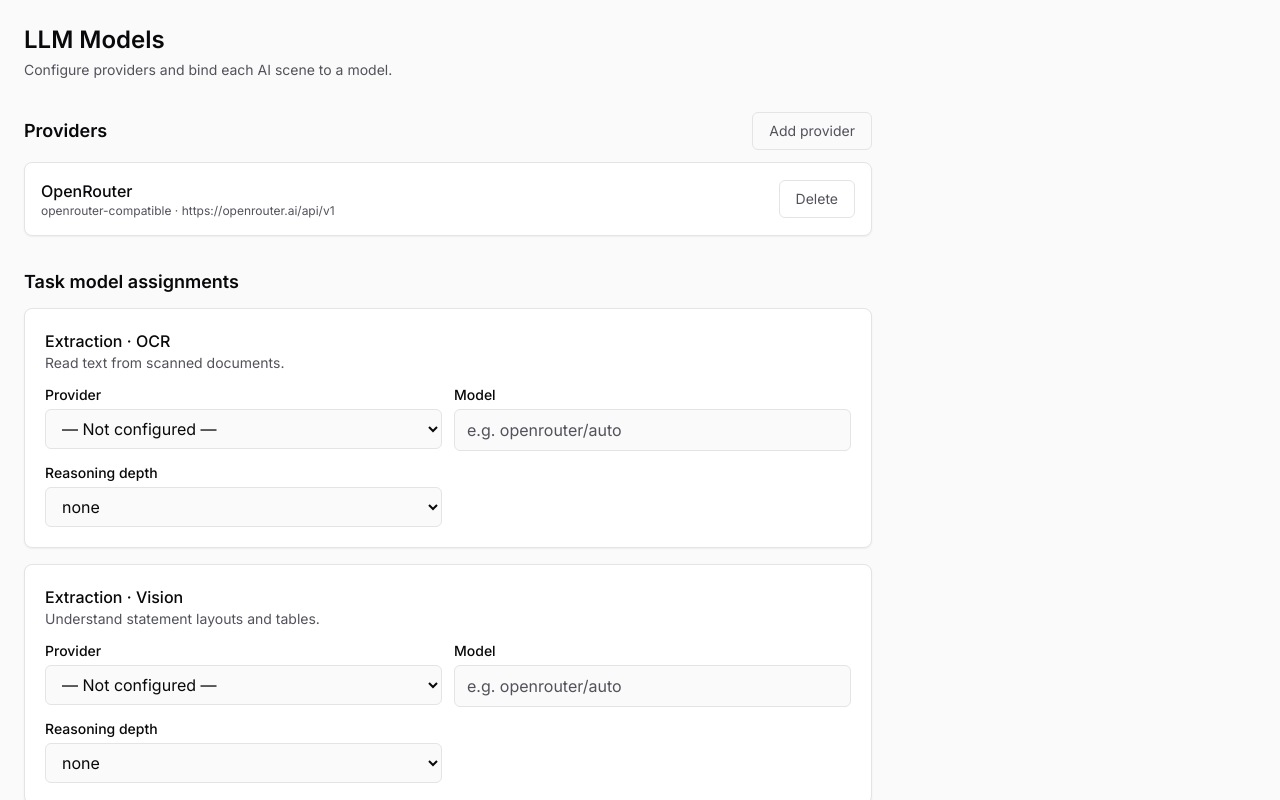
Test case: LlmSettingsPanel (EPIC-023 PR4) › #1609 does not delete until the confirmation is accepted
The image size is (1280, 800).
Click the button with aria-label "Delete provider OpenRouter": coordinates (817, 199) x1=779 y1=180 x2=855 y2=218
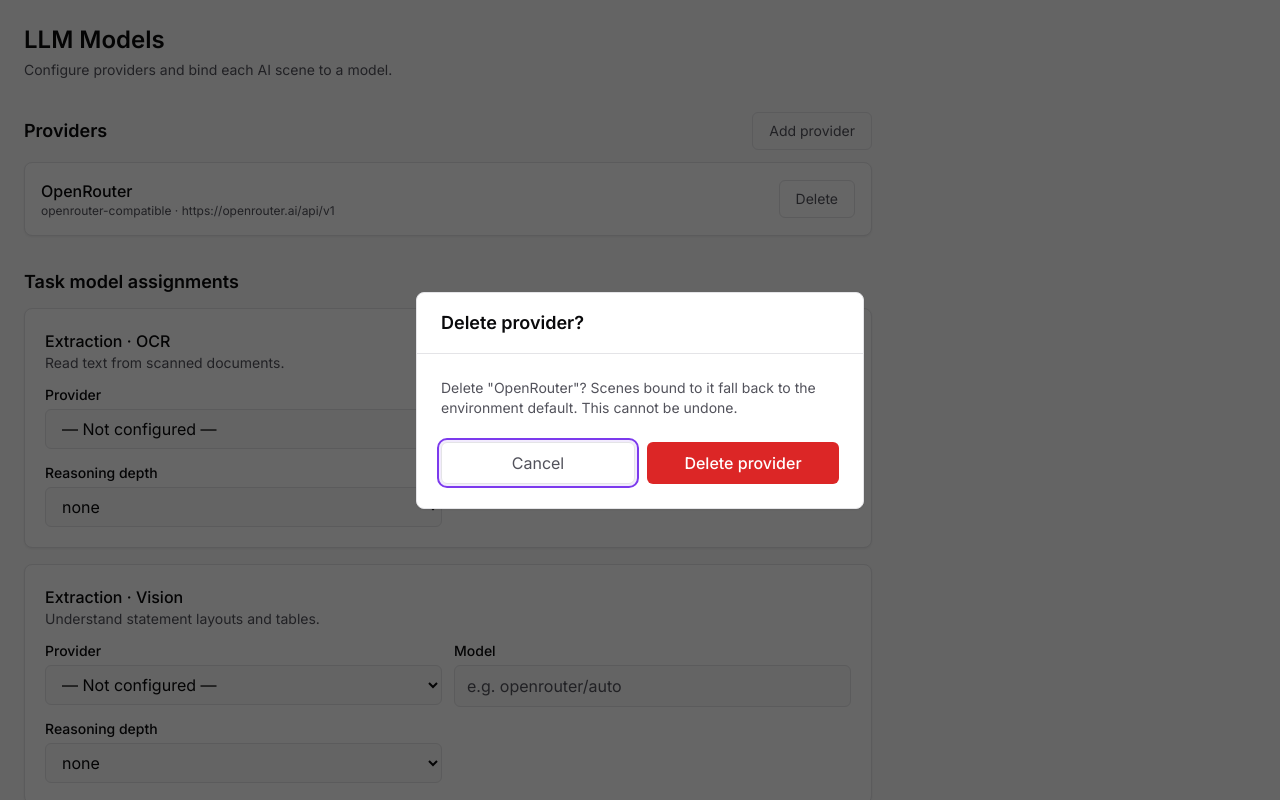
Expected: the dialog is shown, x1=416 y1=292 x2=864 y2=508
// Cancelling closes the dialog without deleting.
Click the button "Cancel": coordinates (538, 462) x1=441 y1=442 x2=635 y2=484
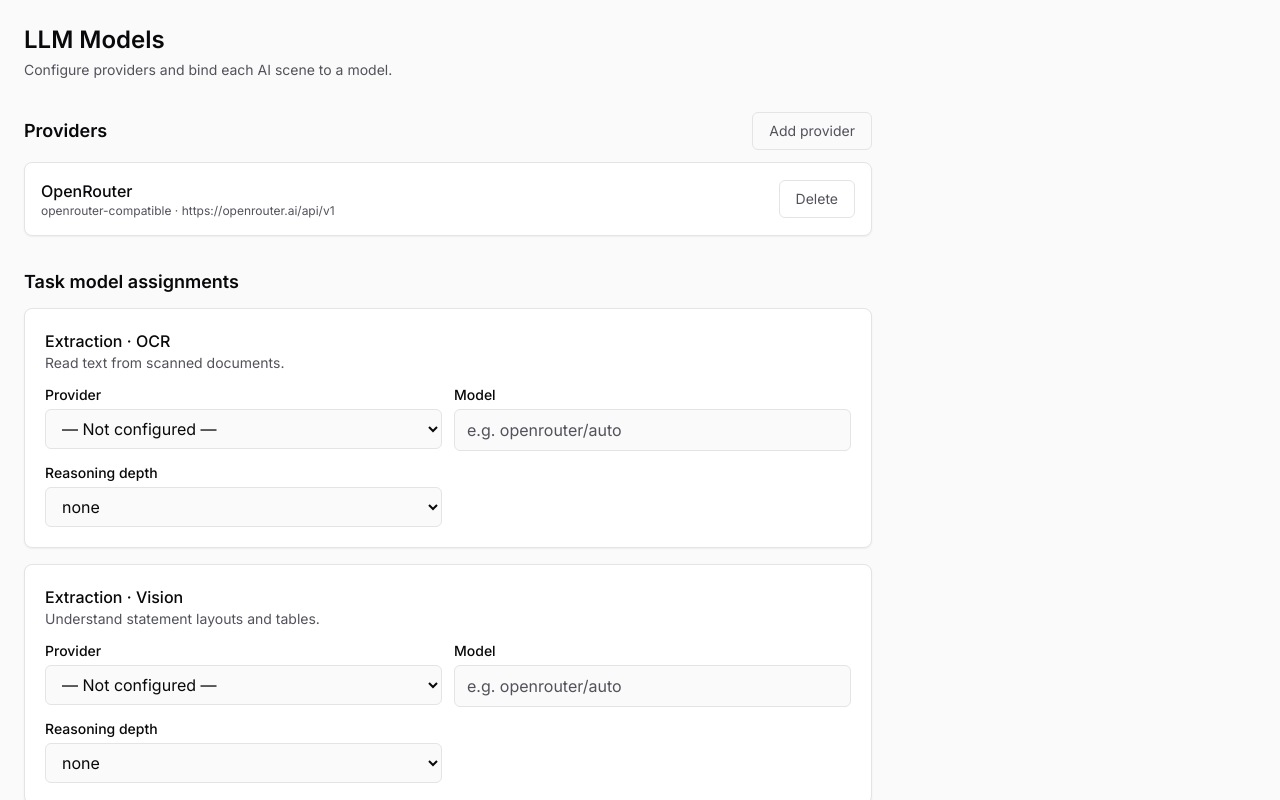
Expected: the dialog is gone
